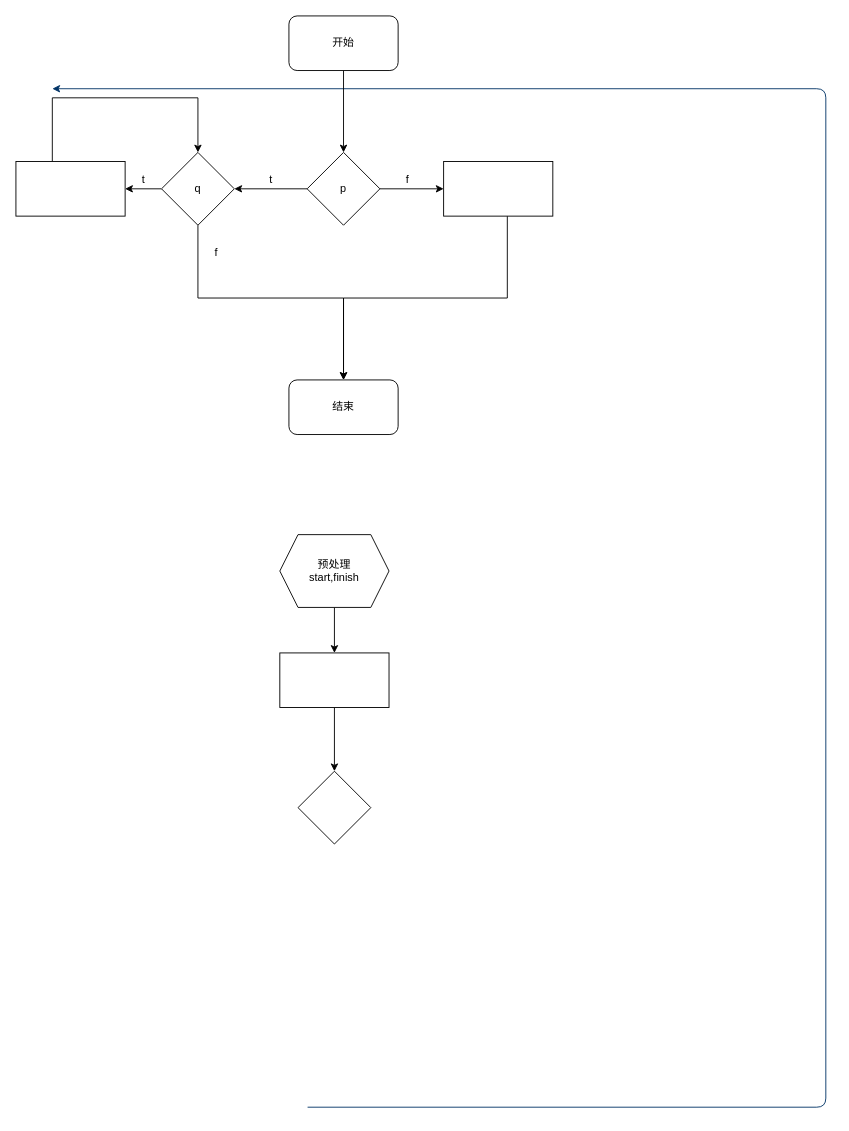
Image size: 849x1131. Some labels were removed from this diagram. Each missing label, with the centre of its shape:
"执行f" belongs at pixel 70 188.
"执行g,n" belongs at pixel 498 188.
"（start+finish ）/2" belongs at pixel 334 680.
